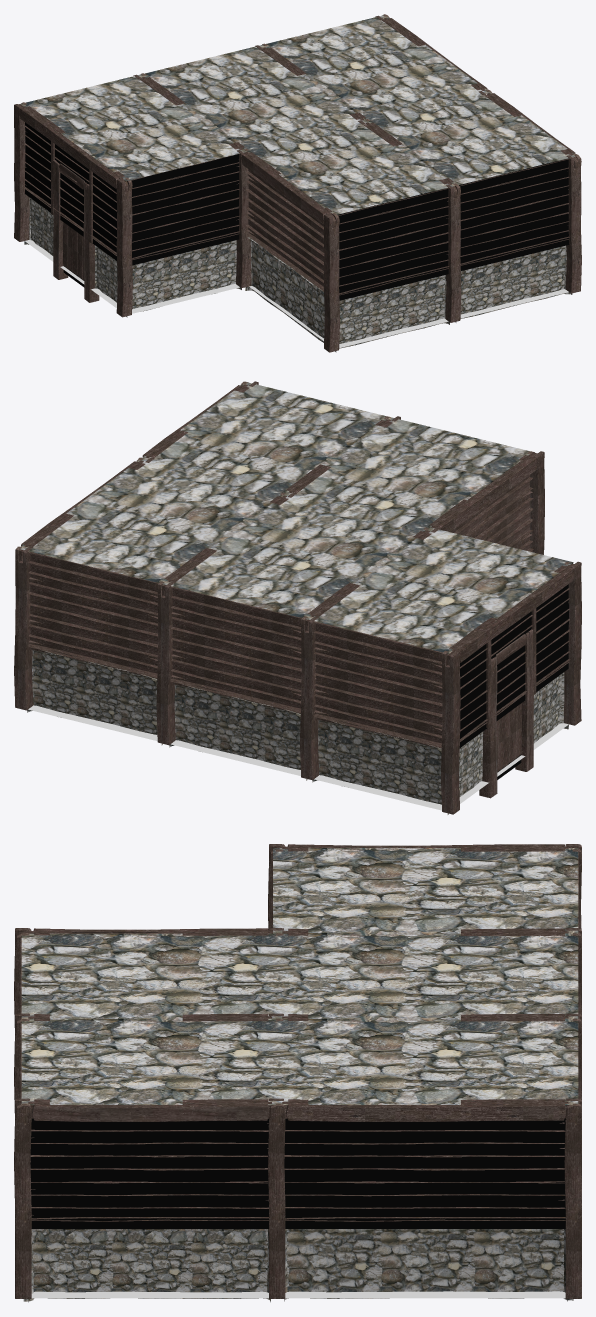
The picture shows the model from 3 angles, top to bottom: view 1: azimuth 30°, elevation 25°; view 2: azimuth 150°, elevation 25°; view 3: azimuth 270°, elevation 25°; orthographic projection. The views are drawn at different scales.
Parts seen in each view (by area): view 1: Floor001, wall_lightblocker001, wall_lightblocker002, wall_lightblocker, Box098, wall_lightblocker009, Box097, Box096, Box040, Floor, Box010, Box024 (+22 smaller); view 2: Floor001, Box036, Box037, Box035, wall_lightblocker009, Floor, Box009, Box019, Box012, Box023, Box045, Box010 (+43 smaller); view 3: Floor001, wall_lightblocker008, wall_lightblocker007, Box042, Box101, Box049, Box050, Floor, Box026, Box019, Box020, Box052 (+16 smaller).
Boxes of the visible parts, left/top/right/bottom form: Floor001: left=21, top=15, right=577, bottom=215; wall_lightblocker001: left=337, top=188, right=448, bottom=300; wall_lightblocker002: left=459, top=158, right=569, bottom=270; wall_lightblocker: left=131, top=154, right=239, bottom=265; Box098: left=335, top=275, right=449, bottom=352; wall_lightblocker009: left=25, top=122, right=125, bottom=260; Box097: left=455, top=245, right=572, bottom=322; Box096: left=126, top=240, right=241, bottom=317; Box040: left=245, top=237, right=324, bottom=342; Floor: left=25, top=240, right=568, bottom=347; Box010: left=116, top=177, right=132, bottom=317; Box024: left=324, top=213, right=339, bottom=352; Floor001: left=20, top=382, right=573, bottom=653; Box036: left=169, top=684, right=307, bottom=780; Box037: left=27, top=650, right=162, bottom=745; Box035: left=312, top=720, right=448, bottom=814; wall_lightblocker009: left=459, top=563, right=572, bottom=747; Floor: left=28, top=705, right=568, bottom=810; Box009: left=441, top=650, right=460, bottom=814; Box019: left=14, top=546, right=33, bottom=710; Box012: left=156, top=581, right=175, bottom=745; Box023: left=300, top=616, right=318, bottom=780; Box045: left=446, top=563, right=574, bottom=665; Box010: left=564, top=561, right=581, bottom=725; Floor001: left=21, top=848, right=578, bottom=1104; wall_lightblocker008: left=284, top=1118, right=565, bottom=1228; wall_lightblocker007: left=30, top=1118, right=268, bottom=1228; Box042: left=284, top=1229, right=567, bottom=1301; Box101: left=28, top=1229, right=270, bottom=1302; Box049: left=282, top=1099, right=580, bottom=1121; Box050: left=15, top=1099, right=272, bottom=1121; Floor: left=31, top=1291, right=565, bottom=1298; Box026: left=14, top=1098, right=31, bottom=1298; Box019: left=564, top=1098, right=581, bottom=1298; Box020: left=268, top=1098, right=285, bottom=1298; Box052: left=15, top=928, right=272, bottom=946.
Size of the model in its own units: 75.45 by 28.58 by 69.05.
